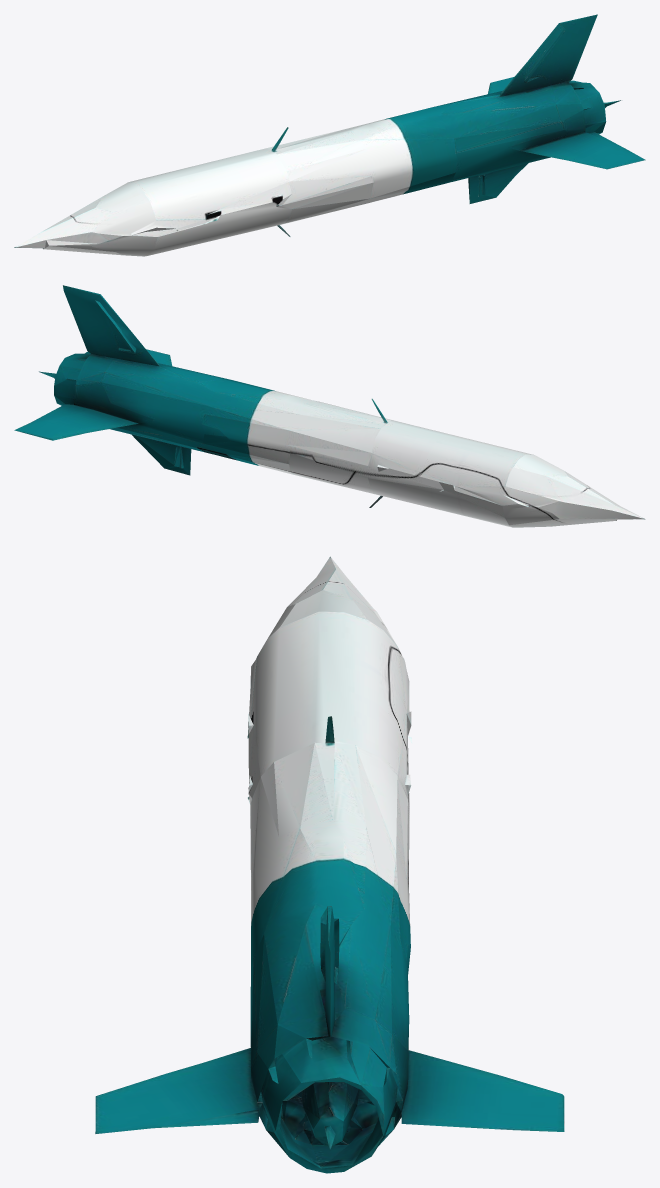
The model's file is fx-ark-missile.glb.
3 views of the same model, one above another, from view 1: azimuth 30°, elevation 25°; view 2: azimuth 150°, elevation 25°; view 3: azimuth 270°, elevation 25° (orthographic). The views are drawn at different scales.
Size of the model in its own units: 1.86 by 0.4651 by 0.6218.
1 material, 1 textured.
